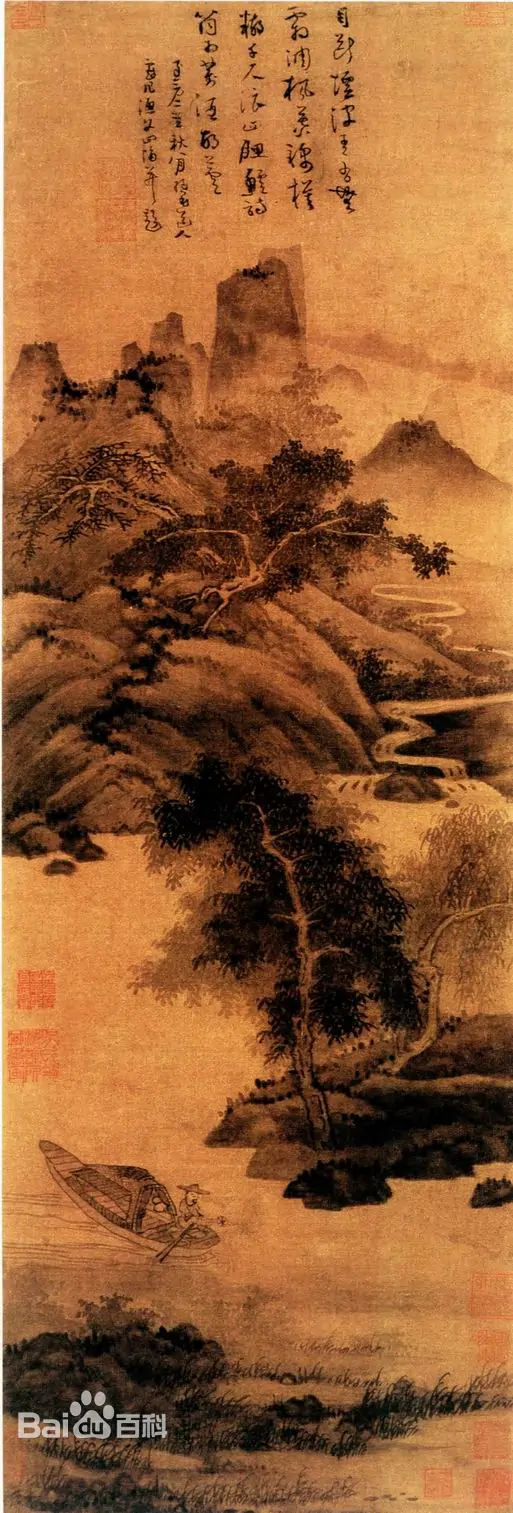boat: (25, 1132, 243, 1283)
creek: (327, 560, 513, 813)
grass: (234, 1369, 513, 1458)
hill: (373, 408, 508, 508)
man: (176, 1181, 229, 1258)
mountain: (18, 264, 388, 427)
pine: (57, 450, 453, 679)
rock: (18, 1313, 243, 1450)
tree: (150, 751, 513, 1150)
